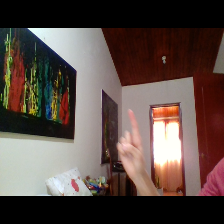2T: (110, 106, 151, 176)
